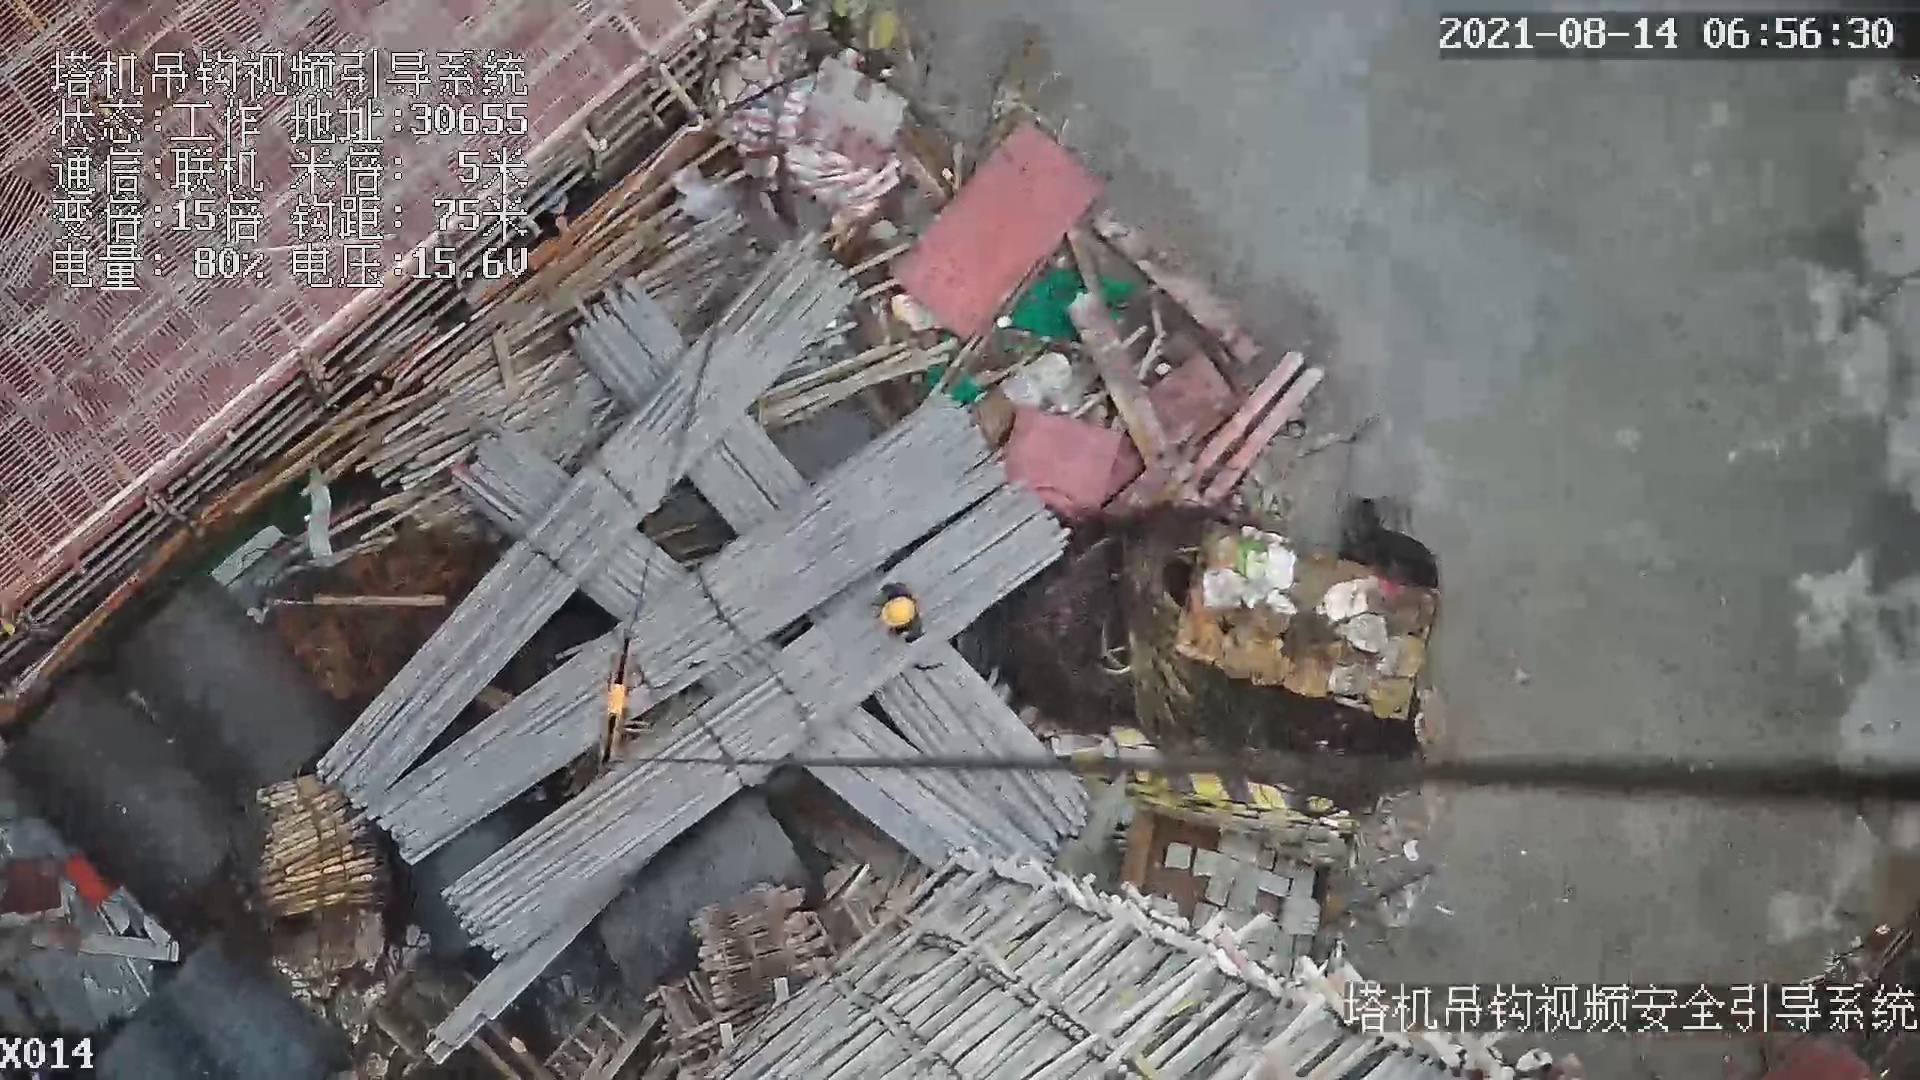helmet: (881, 597, 915, 625)
hook: (594, 628, 649, 772)
person: (877, 573, 913, 641)
rebar: (319, 239, 859, 815), (443, 481, 1069, 960), (369, 400, 1005, 862), (793, 703, 1061, 872), (875, 642, 1094, 839)
wood: (252, 777, 396, 916)
